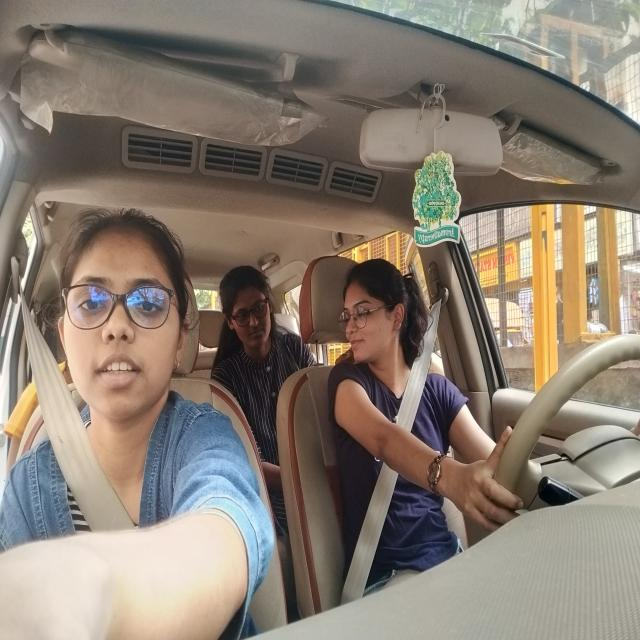drowsy: (342, 258, 412, 382)
person: (61, 204, 183, 422), (222, 263, 276, 352)
